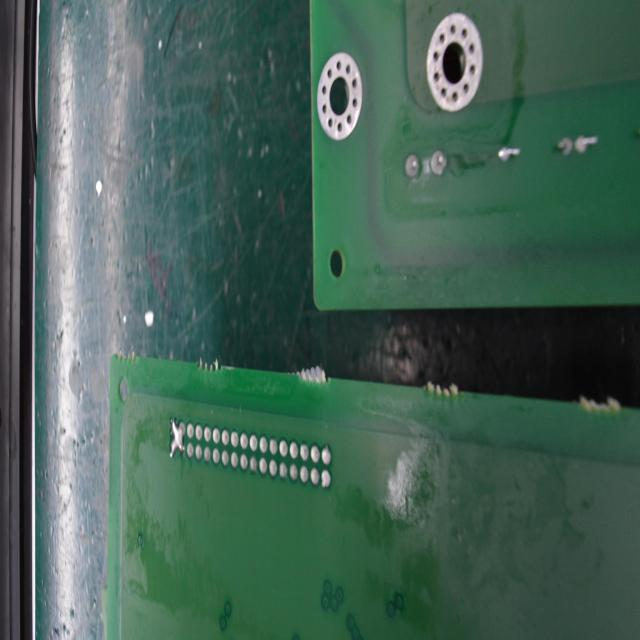Short_circuit: (167, 412, 184, 457)
